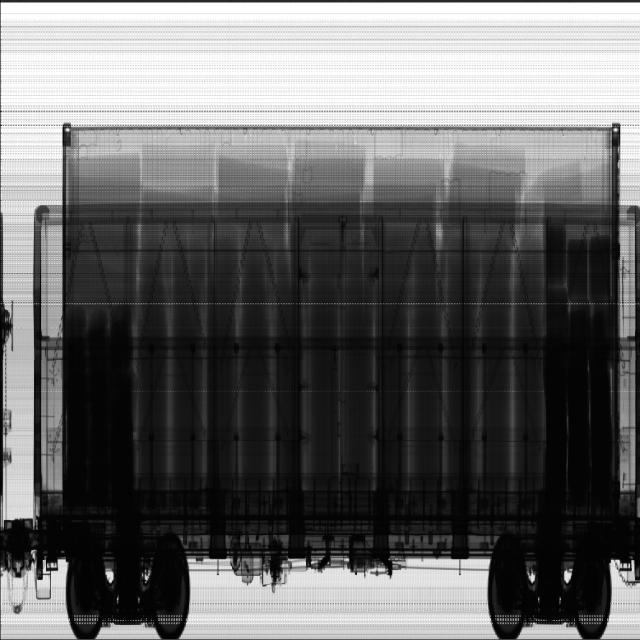clothes: (64, 306, 135, 489)
fabrics: (66, 144, 613, 482)
